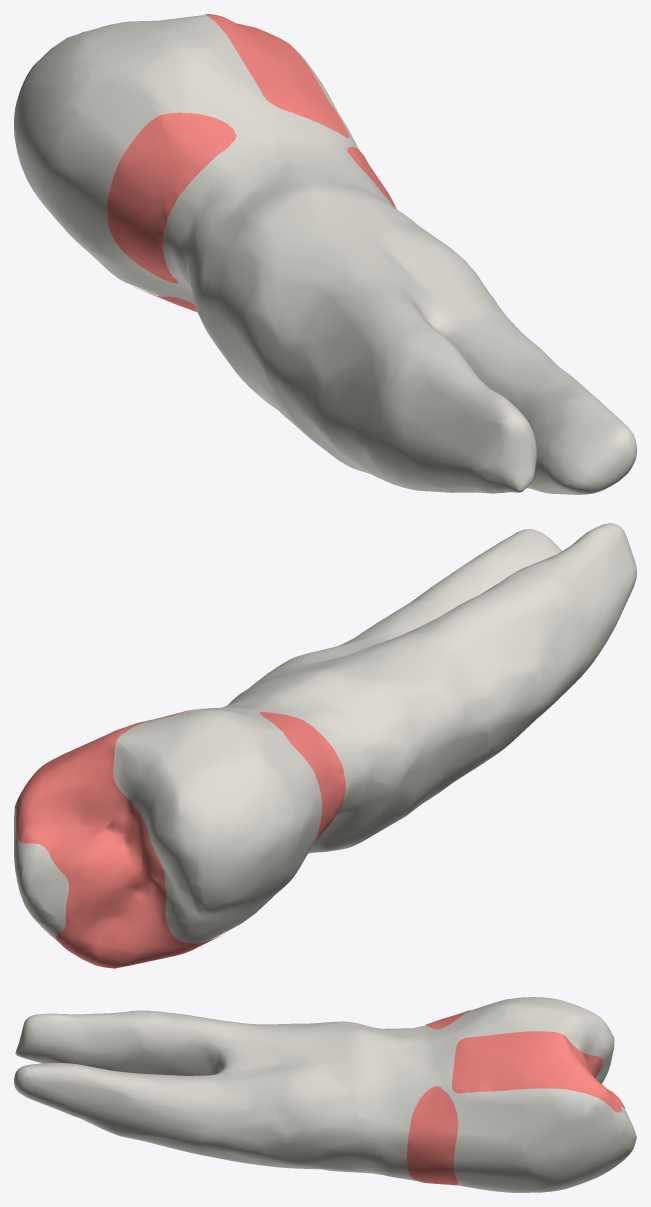
File: tooth_24_FMA55690.glb
The picture shows the model from 3 angles, top to bottom: view 1: azimuth 30°, elevation 25°; view 2: azimuth 150°, elevation 25°; view 3: azimuth 270°, elevation 25°; orthographic projection. The views are drawn at different scales.
Parts seen in each view (by area): view 1: tooth_24, class5_lingual, class2_distal; view 2: tooth_24, class2_distal, class2_mesial, class5_lingual, class1, class2_mesial_distal; view 3: tooth_24, class2_distal, class5_facial.
Boxes of the visible parts, x1=… form: tooth_24: x1=14, y1=15, x2=636, y2=494; class5_lingual: x1=107, y1=112, x2=236, y2=283; class2_distal: x1=204, y1=14, x2=348, y2=137; tooth_24: x1=14, y1=523, x2=636, y2=943; class2_distal: x1=16, y1=708, x2=200, y2=899; class2_mesial: x1=56, y1=804, x2=225, y2=968; class5_lingual: x1=259, y1=712, x2=345, y2=843; class1: x1=117, y1=804, x2=154, y2=902; class2_mesial_distal: x1=59, y1=797, x2=165, y2=910; tooth_24: x1=14, y1=997, x2=636, y2=1192; class2_distal: x1=452, y1=1031, x2=624, y2=1112; class5_facial: x1=407, y1=1086, x2=458, y2=1185.
Bounding box in the file's own units: 9.04 × 7.61 × 26.88.
